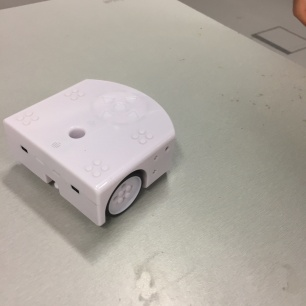thymio: (3, 72, 184, 234)
